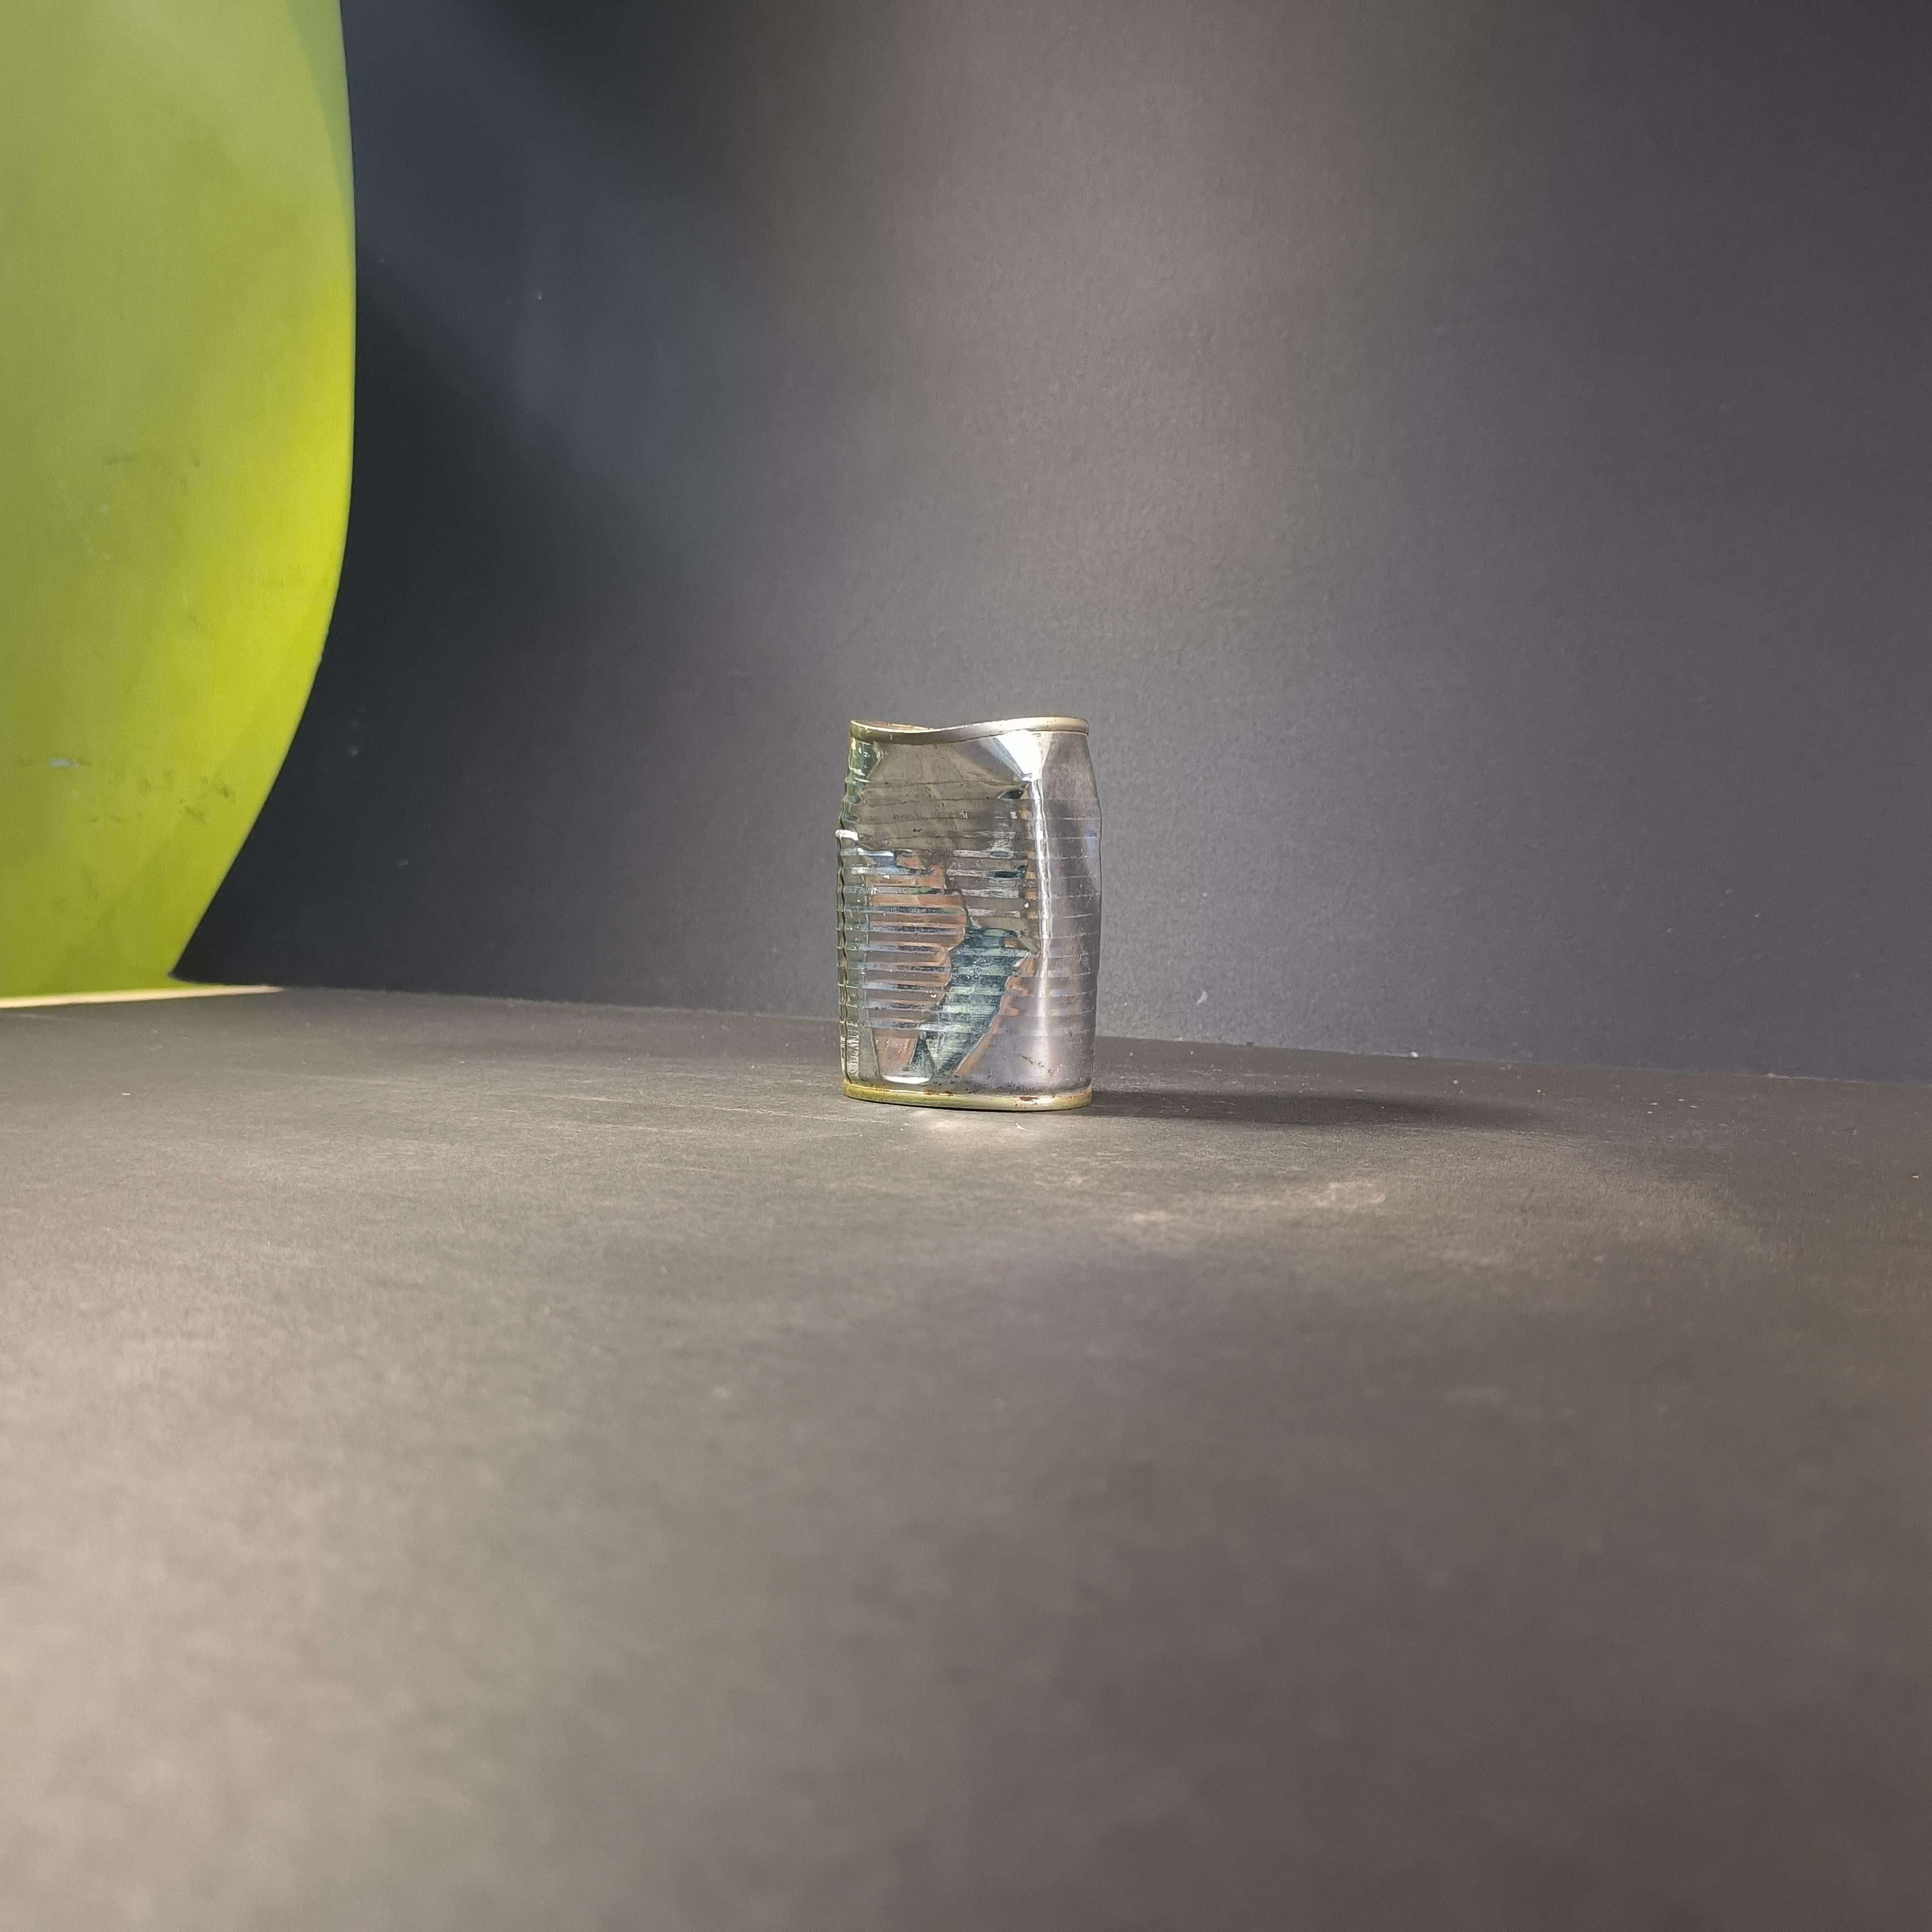Dented: (817, 681, 1116, 1136)
